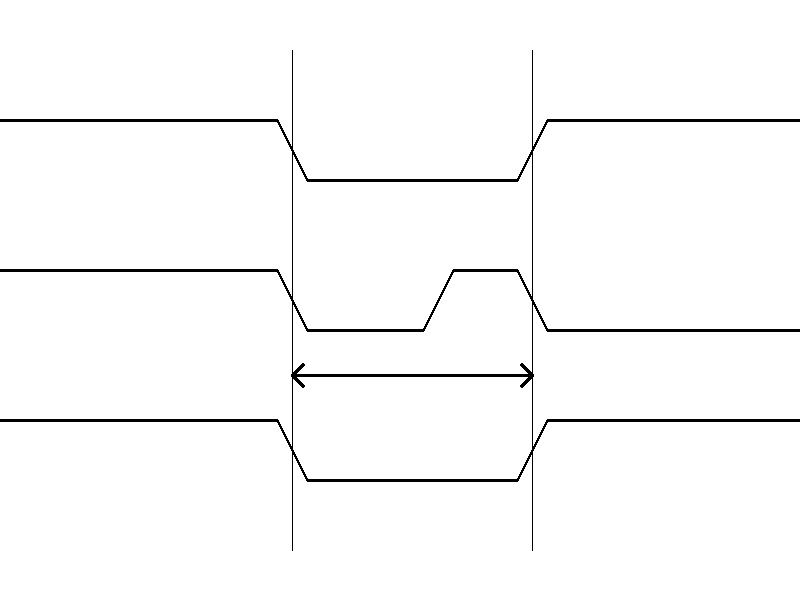double_arrow: (292, 360, 532, 390)
